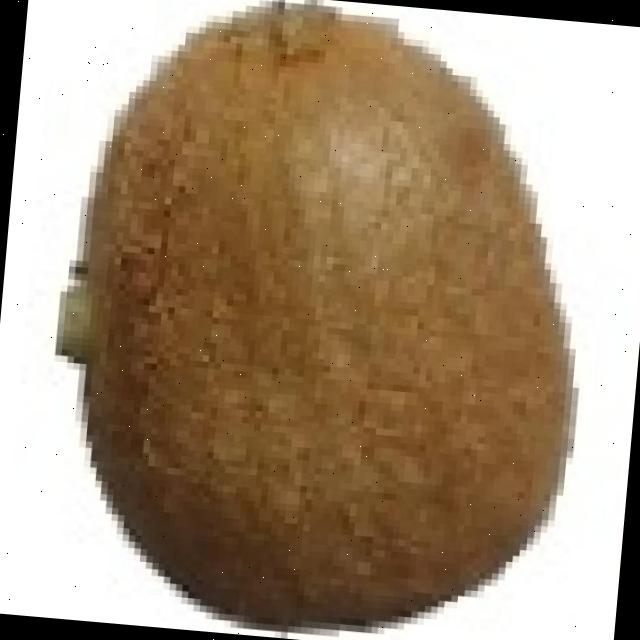kiwi: (74, 2, 580, 620)
